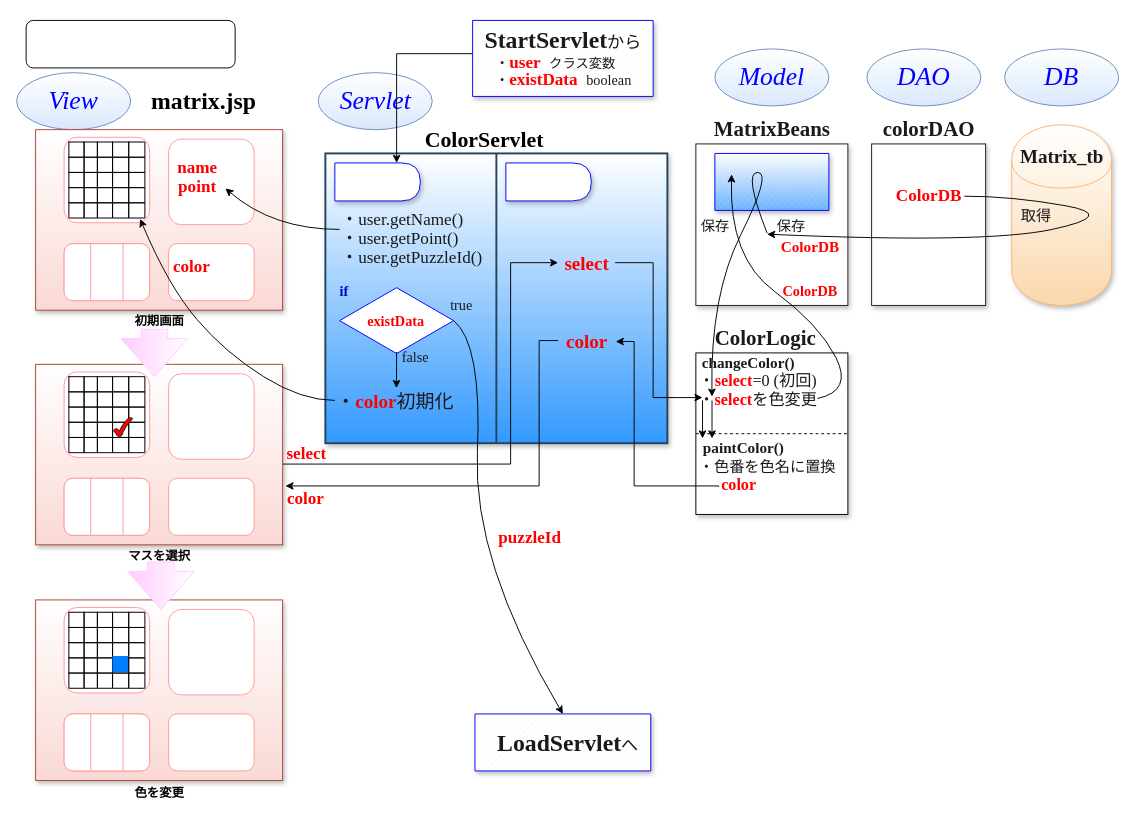
This 1135x821 diagram has some shape labels left out. Here are the shapes that lost their labels. From the top down, the centre of each, then its label:
At [130,43]: "Color 機能".
At [378,183]: "doGet".
At [549,183]: "doPost".
At [772,183]: "Beans".
